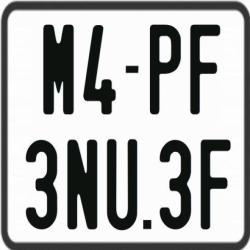3: (158, 140, 192, 231), (26, 138, 58, 228)
4: (82, 25, 115, 114)
F: (189, 24, 223, 118), (200, 139, 232, 232)
M: (43, 24, 74, 116)
N: (66, 139, 96, 232)
P: (150, 23, 182, 115)
U: (106, 138, 138, 232)
